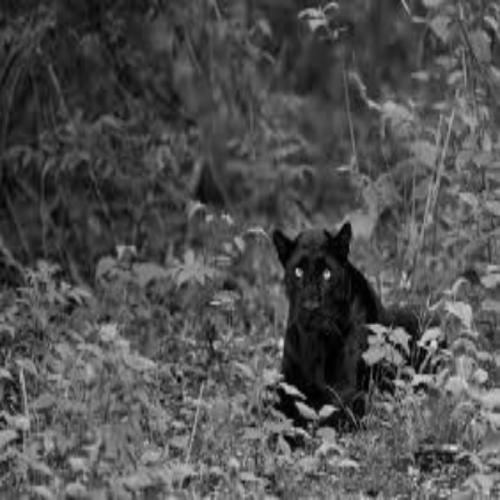panther-endangered: (271, 222, 442, 444)
